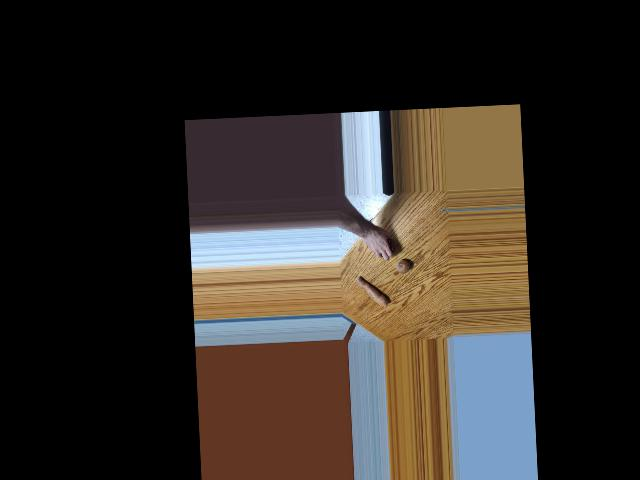onion: (381, 236, 397, 255)
